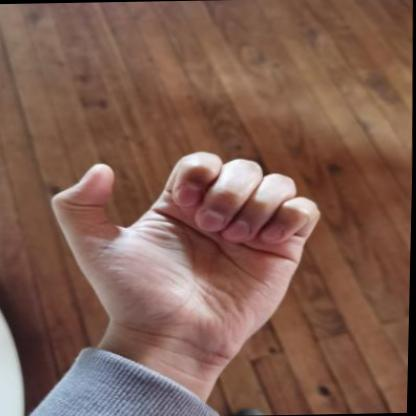E: (41, 138, 328, 369)
